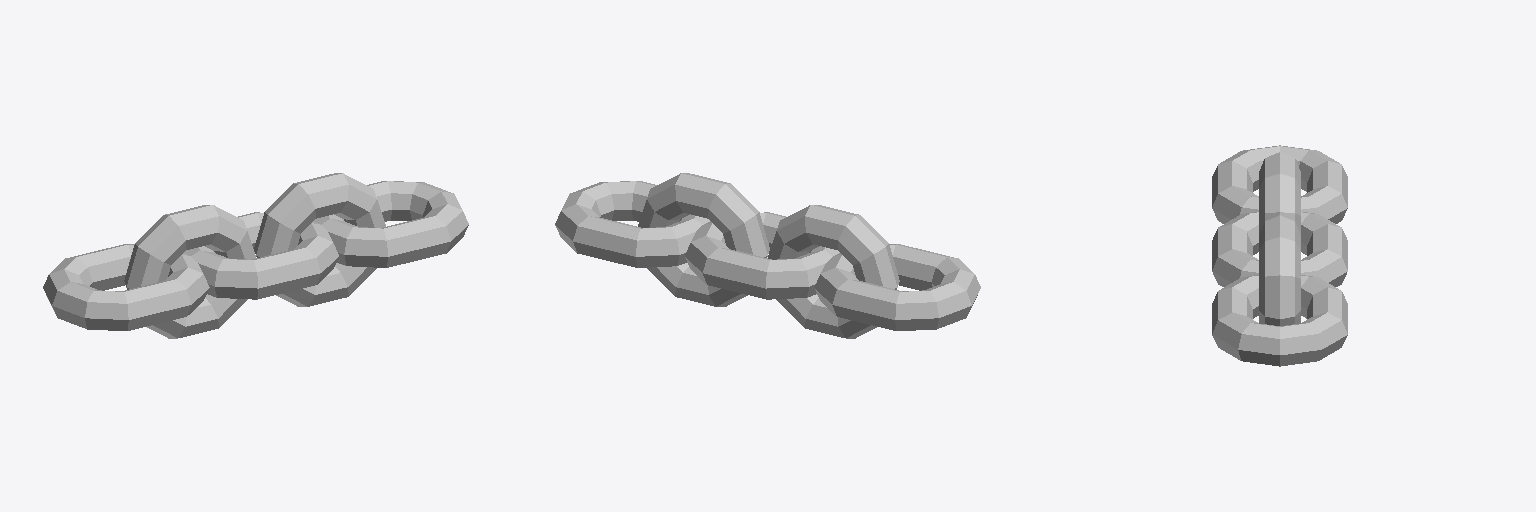
The model's file is Chain01.obj.
3 renders of one model, left to right at view 1: azimuth 30°, elevation 25°; view 2: azimuth 150°, elevation 25°; view 3: azimuth 270°, elevation 25°, orthographic.
Parts seen in each view (by area): view 1: Chain01; view 2: Chain01; view 3: Chain01.
Boxes of the visible parts, x1=… form: Chain01: x1=43, y1=173, x2=468, y2=338; Chain01: x1=555, y1=173, x2=980, y2=338; Chain01: x1=1212, y1=145, x2=1347, y2=366.
Size of the model in its own units: 3.15 by 0.9077 by 0.9077.